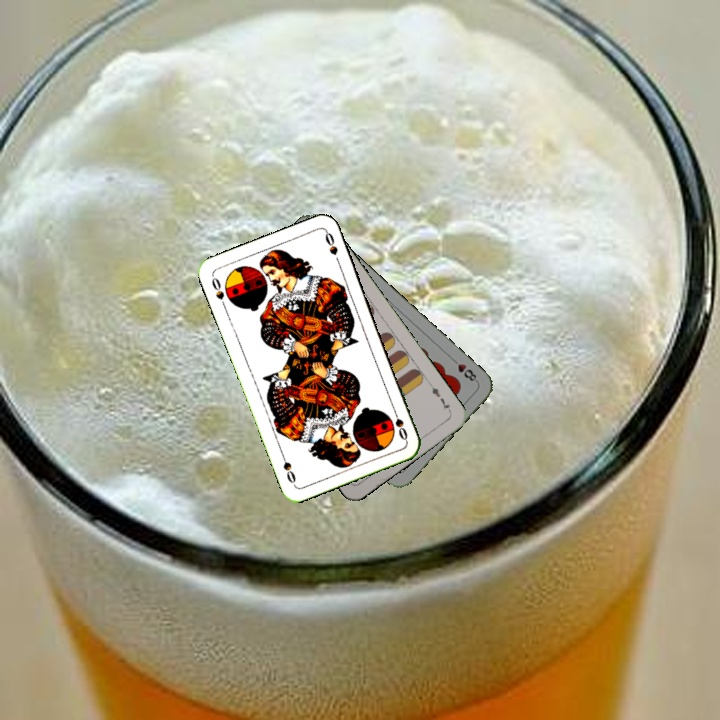E7: (426, 379, 454, 415)
H8: (447, 354, 480, 385)
SO: (207, 272, 232, 311), (389, 404, 410, 443)
